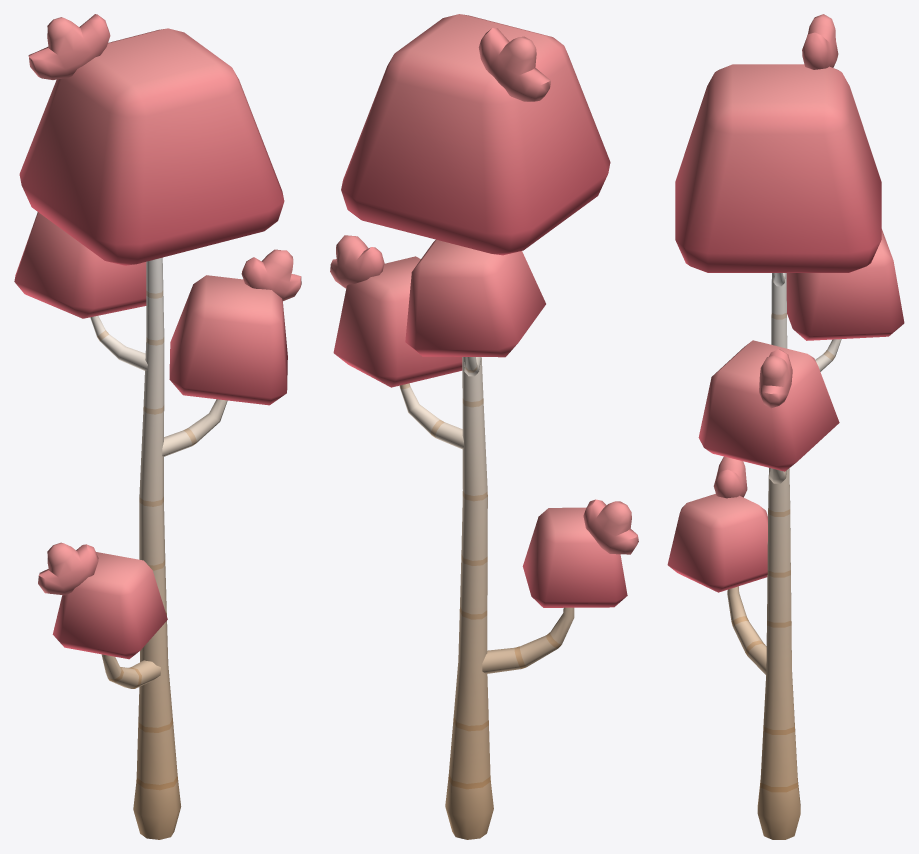
The model's file is Tree_6_C_Color8.fbx.
3 views of the same model, side by side, from view 1: azimuth 30°, elevation 25°; view 2: azimuth 150°, elevation 25°; view 3: azimuth 270°, elevation 25° (orthographic). The views are drawn at different scales.
Visible parts, largest first — view 1: Tree_6_C_Color8; view 2: Tree_6_C_Color8; view 3: Tree_6_C_Color8.
Boxes of the visible parts, x1,y1,x2,y2 form: Tree_6_C_Color8: [14, 14, 301, 839]; Tree_6_C_Color8: [330, 14, 638, 839]; Tree_6_C_Color8: [667, 14, 904, 839].
Bounding box in the file's own units: 3.02 × 8.42 × 2.3.
